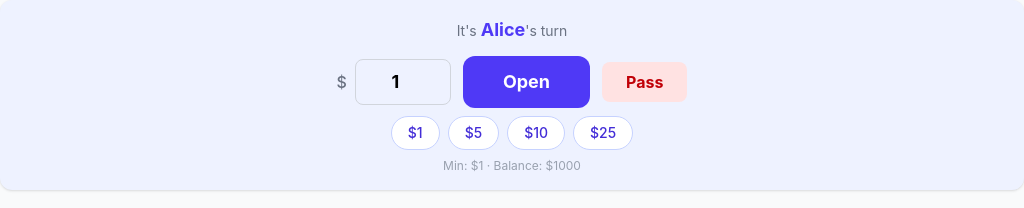
Scenario: BidControls › quick buttons › sets exact amount on opening bid (pending)
Click the button "$5".
click(473, 133)  # box [448, 116, 499, 150]
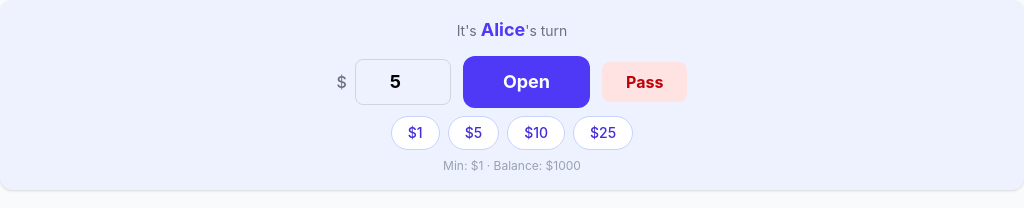
Check: the number field holds "5", box [355, 59, 451, 105]
